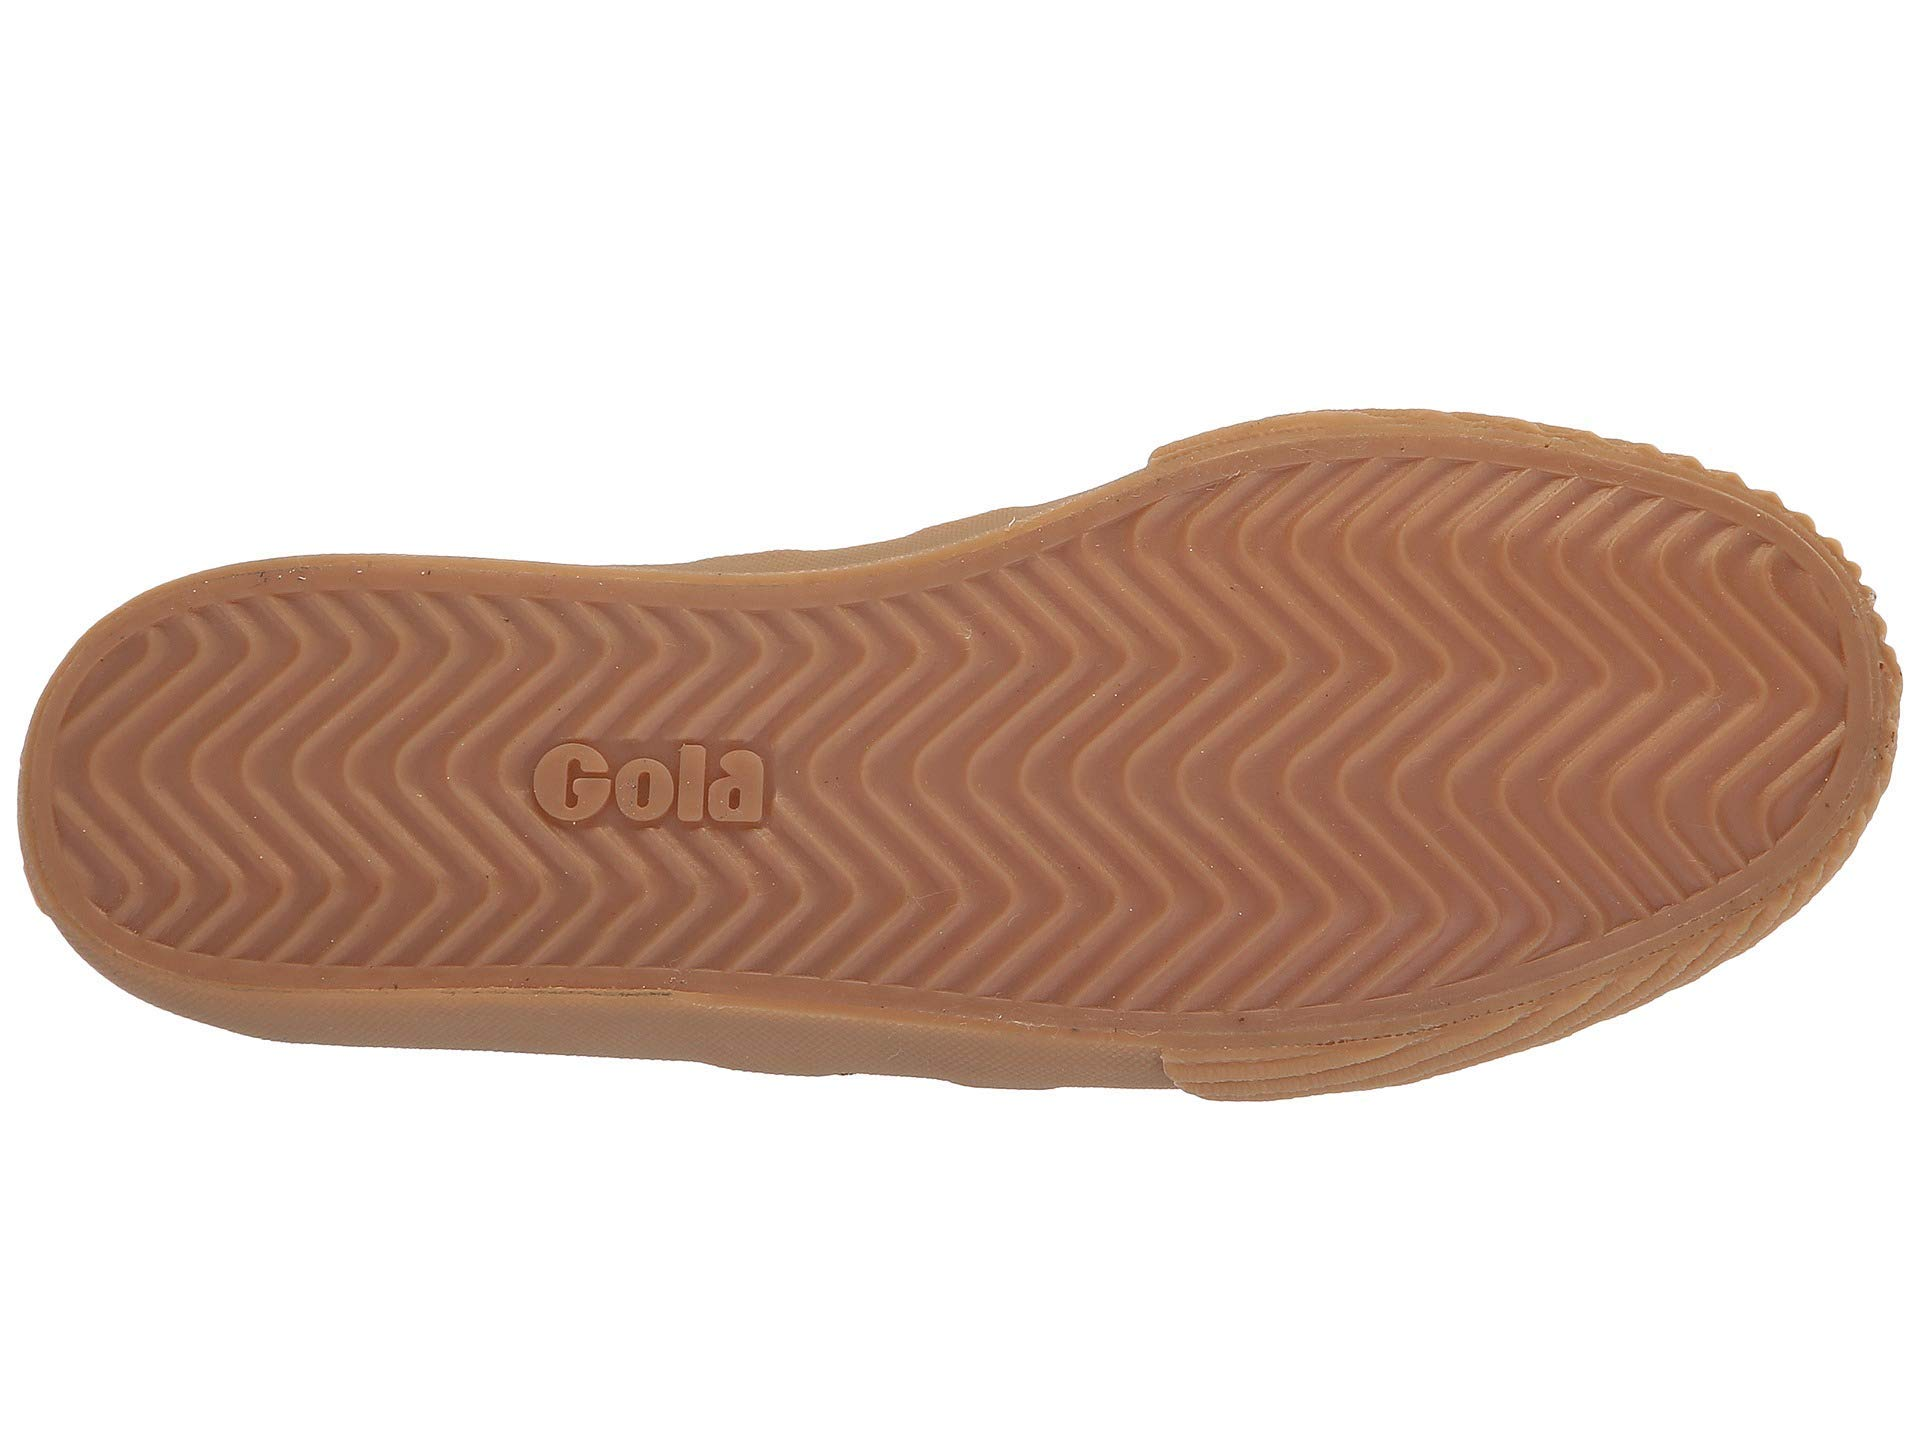chevron: (1128, 569, 1562, 989), (113, 625, 458, 976), (788, 596, 1108, 926)
circle: (517, 705, 782, 868)
text: (517, 705, 782, 868)
